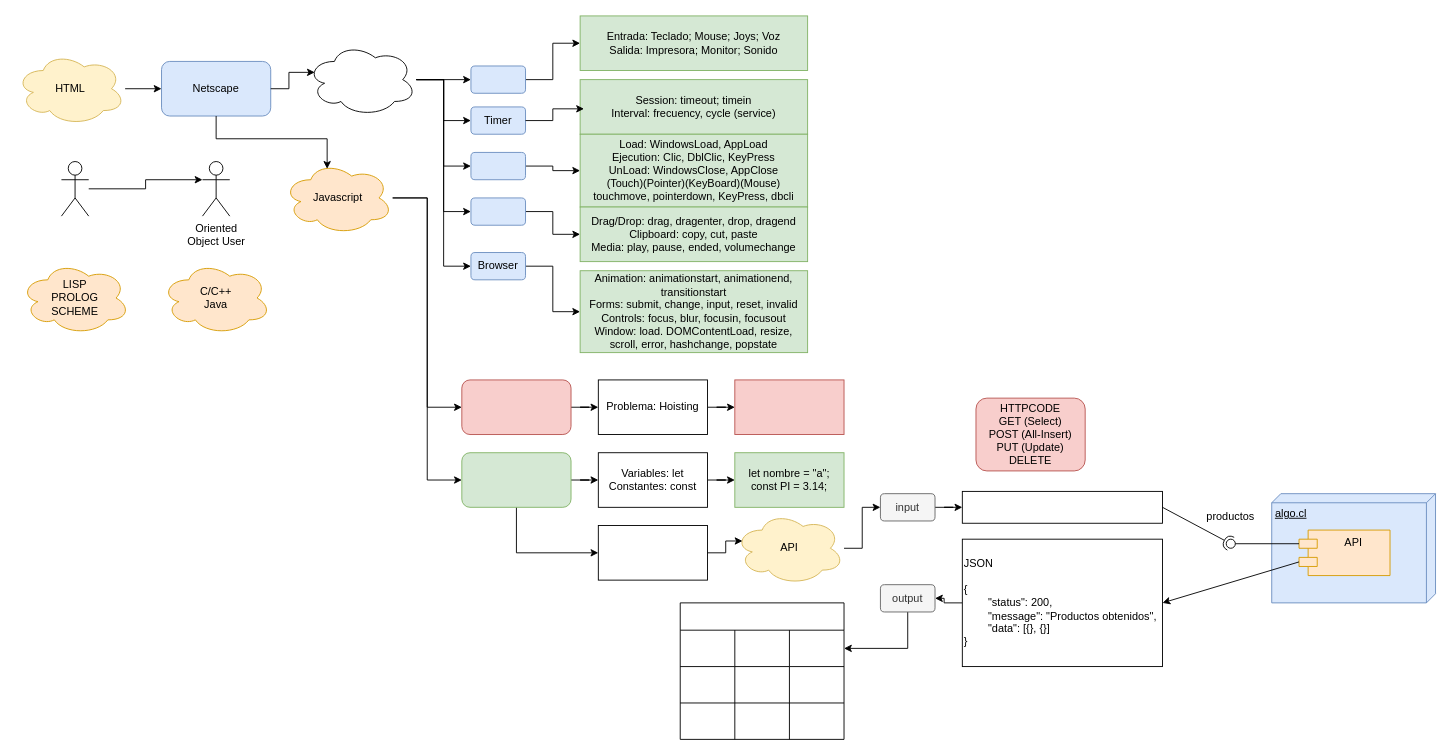
Image size: 1451x755. Some labels were removed from this diagram. The shapes that lost their labels are listed below. From the top down, each one's centre as x and y in pixels, then its label:
the point at 361,79: ¿Eventos?
the point at 498,79: I/O
the point at 498,166: Interaction
the point at 75,188: User Functional
the point at 498,211: S.O.
the point at 516,407: < ES6
the point at 789,407: No utilice "var" ej. var nombre = "a";
the point at 516,479: ES6 +
the point at 1062,506: GET https://algo.cl/api/productos
the point at 652,552: Arrow Function =>
the point at 761,670: Table
